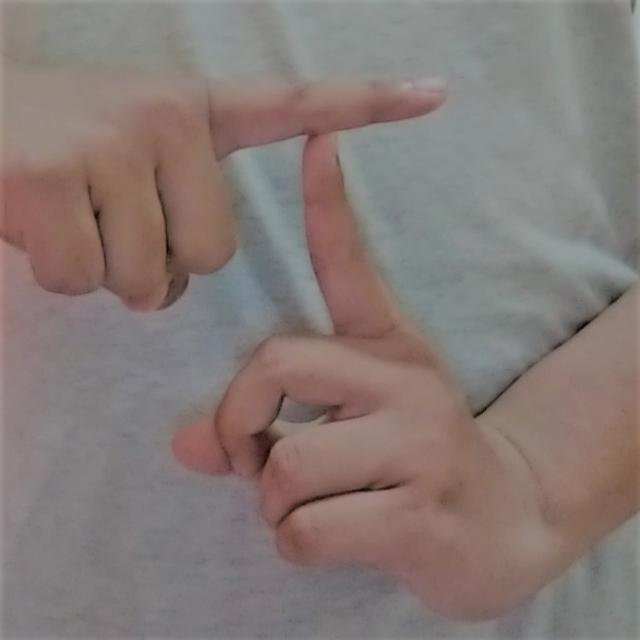T: (28, 49, 556, 628)
